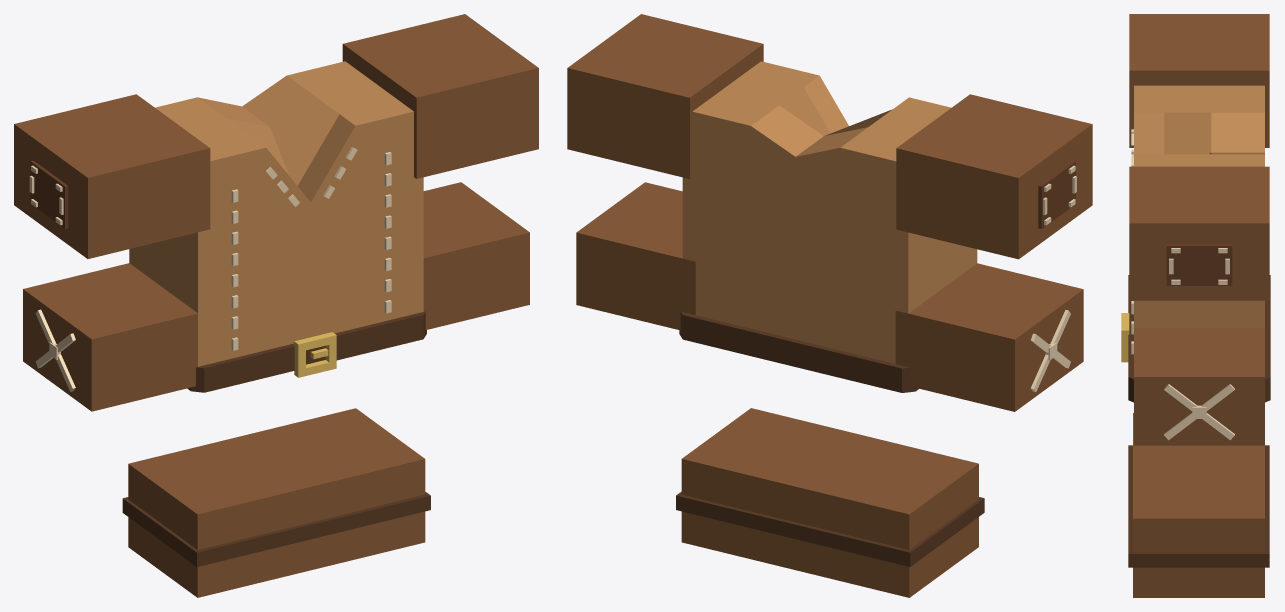
Rendered from w1_armor_farmhand.fbx.
3 views of the same model, side by side, from view 1: azimuth 30°, elevation 25°; view 2: azimuth 150°, elevation 25°; view 3: azimuth 270°, elevation 25° (orthographic). The views are drawn at different scales.
Visible parts, largest first — view 1: Farmhand.Vest, Farmhand.ArmHideR, Farmhand.ArmHideL, Farmhand.ShinR, Farmhand.ShinL, Farmhand.Belt, Farmhand.StrapR, Farmhand.StrapL, Farmhand.VestStitch, Farmhand.PatchR, Farmhand.Buckle, Farmhand.LaceR; view 2: Farmhand.Vest, Farmhand.ArmHideR, Farmhand.ArmHideL, Farmhand.ShinR, Farmhand.ShinL, Farmhand.Belt, Farmhand.StrapR, Farmhand.StrapL, Farmhand.PatchR, Farmhand.LaceR; view 3: Farmhand.ArmHideL, Farmhand.ShinL, Farmhand.Vest, Farmhand.ArmHideR, Farmhand.ShinR, Farmhand.StrapL, Farmhand.PatchL, Farmhand.LaceL, Farmhand.Belt, Farmhand.StrapR, Farmhand.Buckle, Farmhand.VestStitch.
Boxes of the visible parts, bbox=[...] form: Farmhand.Vest: bbox=[129, 61, 423, 366]; Farmhand.ArmHideR: bbox=[14, 94, 210, 411]; Farmhand.ArmHideL: bbox=[342, 14, 538, 329]; Farmhand.ShinR: bbox=[128, 438, 318, 597]; Farmhand.ShinL: bbox=[235, 408, 425, 568]; Farmhand.Belt: bbox=[187, 311, 426, 392]; Farmhand.StrapR: bbox=[122, 497, 324, 566]; Farmhand.StrapL: bbox=[303, 492, 430, 540]; Farmhand.VestStitch: bbox=[231, 147, 391, 350]; Farmhand.PatchR: bbox=[30, 160, 68, 228]; Farmhand.Buckle: bbox=[294, 332, 336, 377]; Farmhand.LaceR: bbox=[29, 165, 75, 391]; Farmhand.Vest: bbox=[682, 61, 977, 363]; Farmhand.ArmHideR: bbox=[895, 94, 1092, 411]; Farmhand.ArmHideL: bbox=[567, 14, 763, 330]; Farmhand.ShinR: bbox=[788, 437, 978, 597]; Farmhand.ShinL: bbox=[681, 408, 871, 571]; Farmhand.Belt: bbox=[679, 311, 918, 392]; Farmhand.StrapR: bbox=[782, 497, 984, 566]; Farmhand.StrapL: bbox=[676, 491, 805, 538]; Farmhand.PatchR: bbox=[1038, 161, 1075, 228]; Farmhand.LaceR: bbox=[1031, 165, 1076, 392]; Farmhand.ArmHideL: bbox=[1129, 166, 1269, 445]; Farmhand.ShinL: bbox=[1133, 469, 1264, 597]; Farmhand.Vest: bbox=[1134, 85, 1264, 327]; Farmhand.ArmHideR: bbox=[1129, 14, 1269, 147]; Farmhand.ShinR: bbox=[1133, 413, 1264, 469]; Farmhand.StrapL: bbox=[1128, 494, 1269, 567]; Farmhand.PatchL: bbox=[1166, 244, 1232, 285]; Farmhand.LaceL: bbox=[1164, 248, 1234, 440]; Farmhand.Belt: bbox=[1128, 275, 1270, 402]; Farmhand.StrapR: bbox=[1128, 445, 1269, 504]; Farmhand.Buckle: bbox=[1121, 313, 1129, 362]; Farmhand.VestStitch: bbox=[1131, 129, 1133, 354].
Bounding box in the file's own units: 4.34 × 4.03 × 1.28.
